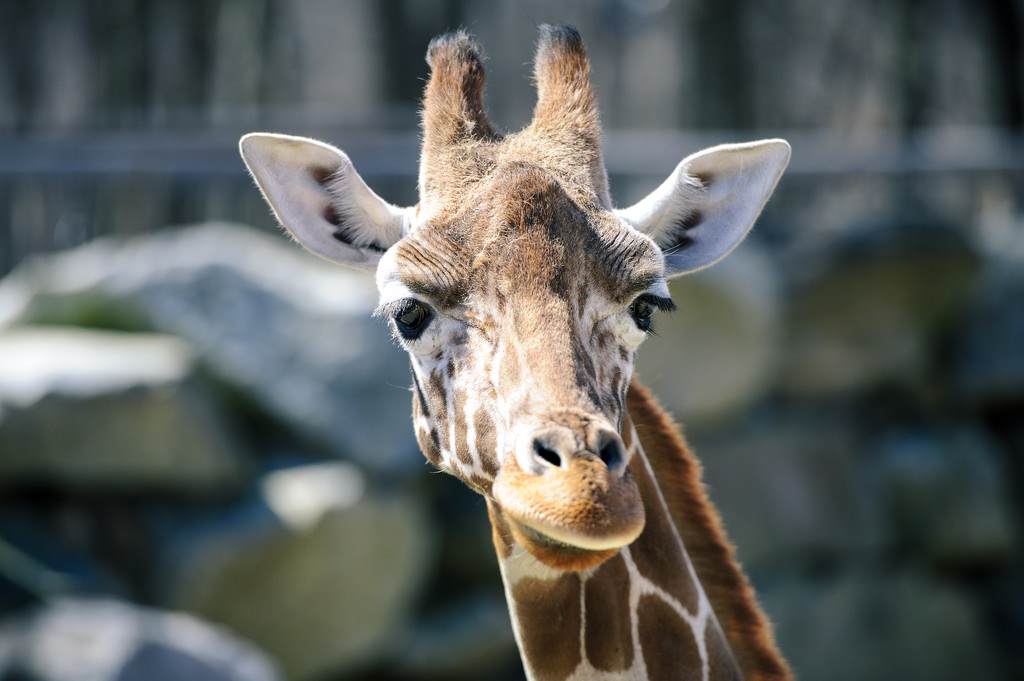giraffe: (247, 11, 812, 681)
